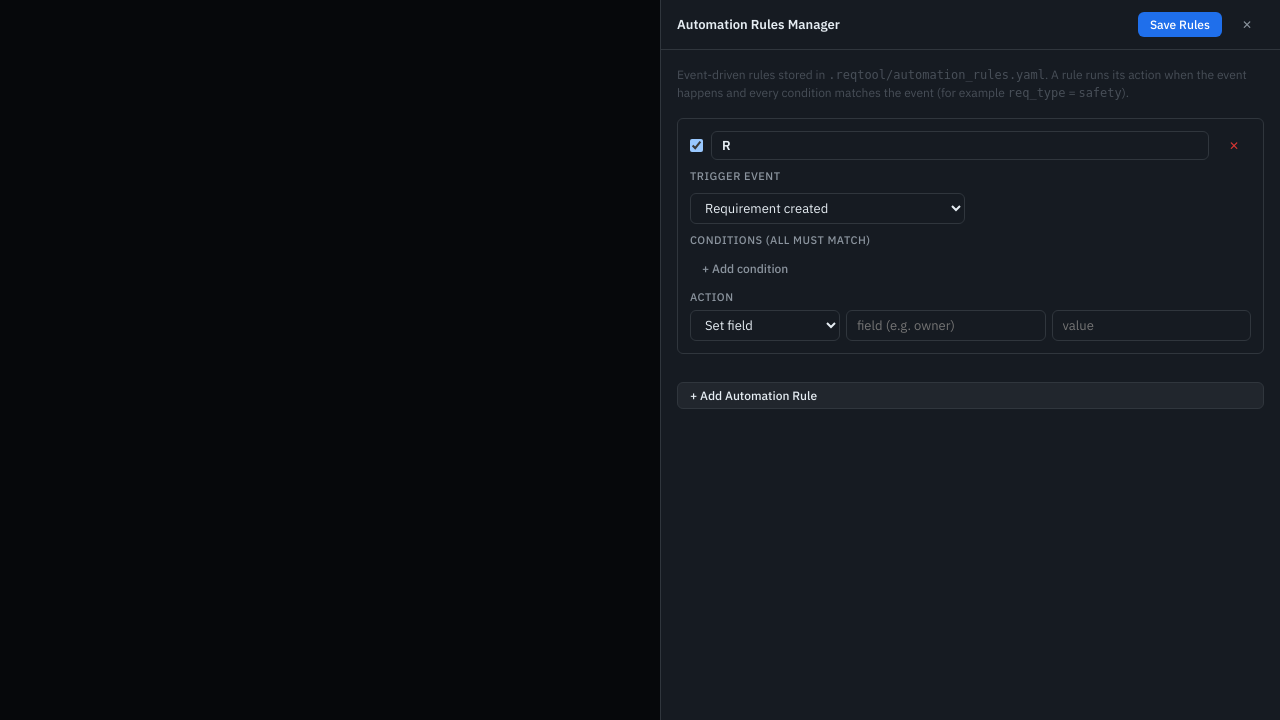
Test: AutomationRulesPanel (UI-12) › shows server validation errors under the failing rule
Click the button "Save Rules". click: (1180,24)
box: [1138, 12, 1222, 37]
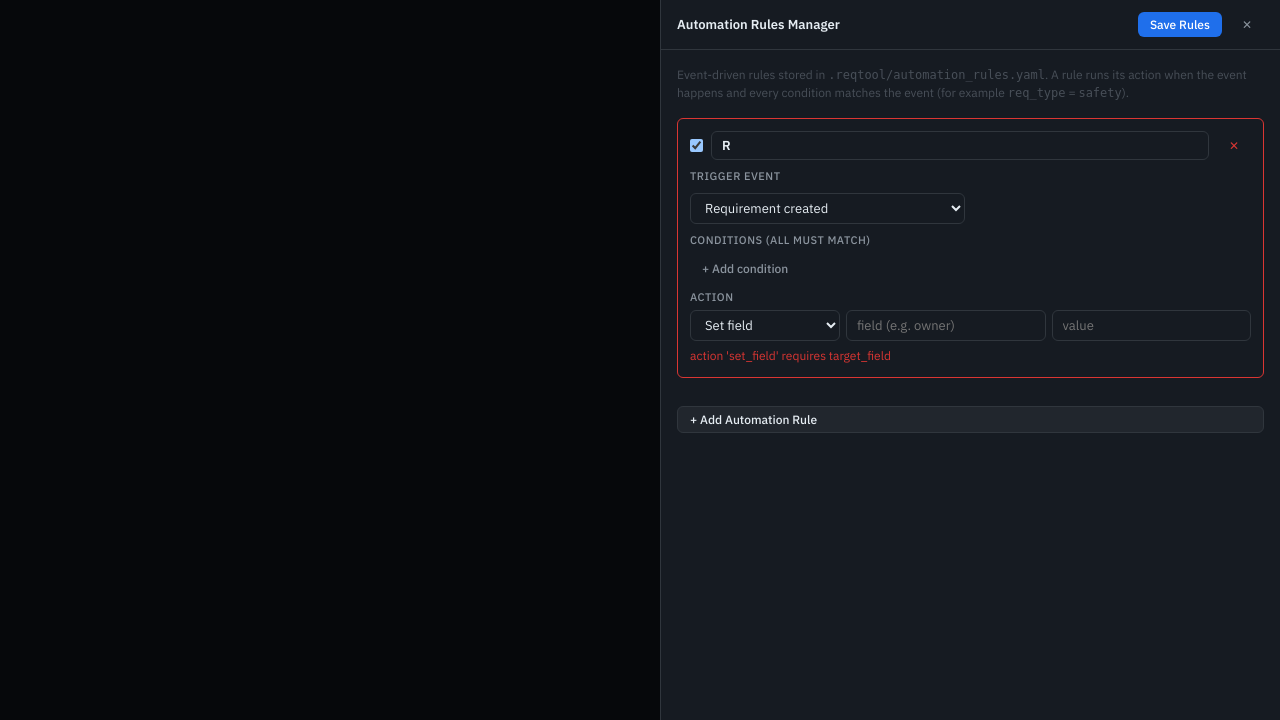
expect the message shows "requires target_field": met, box [690, 348, 891, 362]
